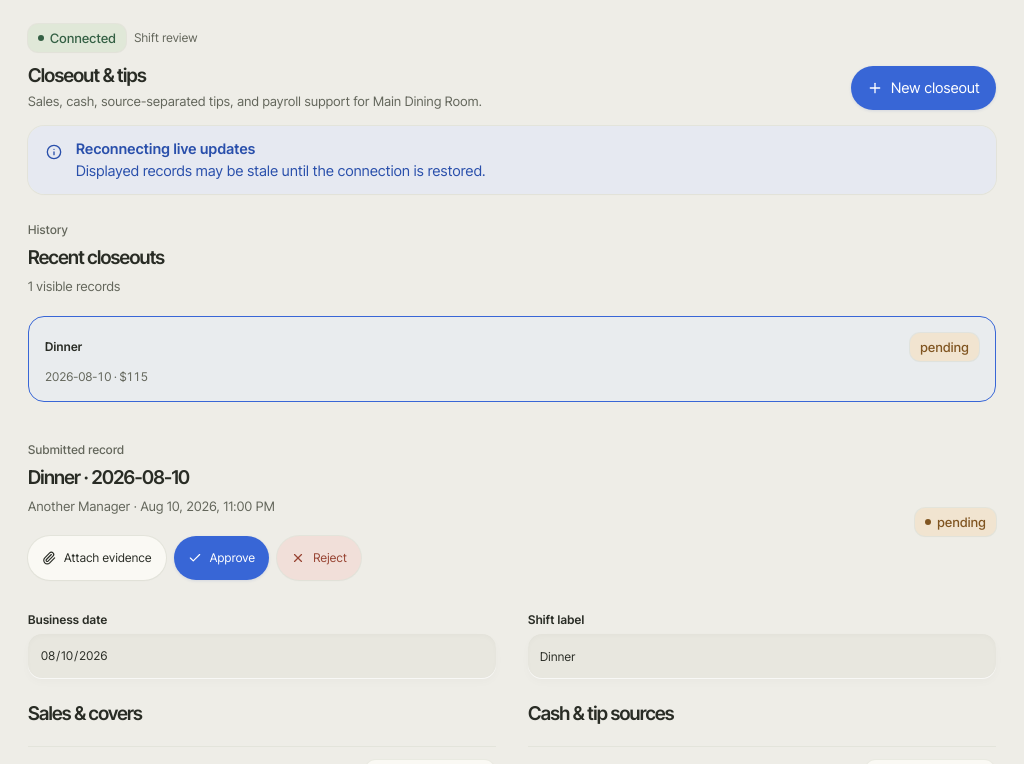
Test case: connected closeout object actions › exposes named evidence and decisions, then confirms an irreversible approval
Expected: the button "Attach evidence" is shown, [28, 536, 166, 580]
Expected: the button "Reject" is shown, [277, 536, 361, 580]
What coordinates should you click on to do the following:
click the button "Approve"
I would click on:
 (221, 558)
Its box is [174, 536, 269, 580].
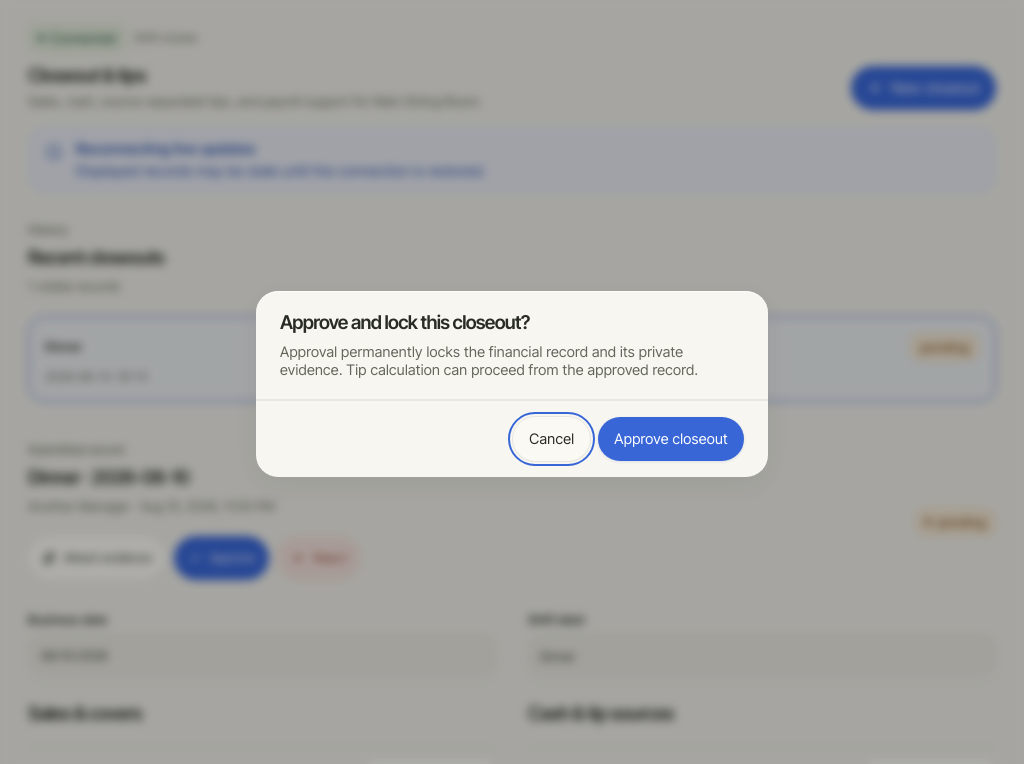
What coordinates should you click on to do the following:
click the button "Approve closeout"
I would click on:
 (671, 439)
Its box is [598, 417, 744, 461].
(page scrolled)
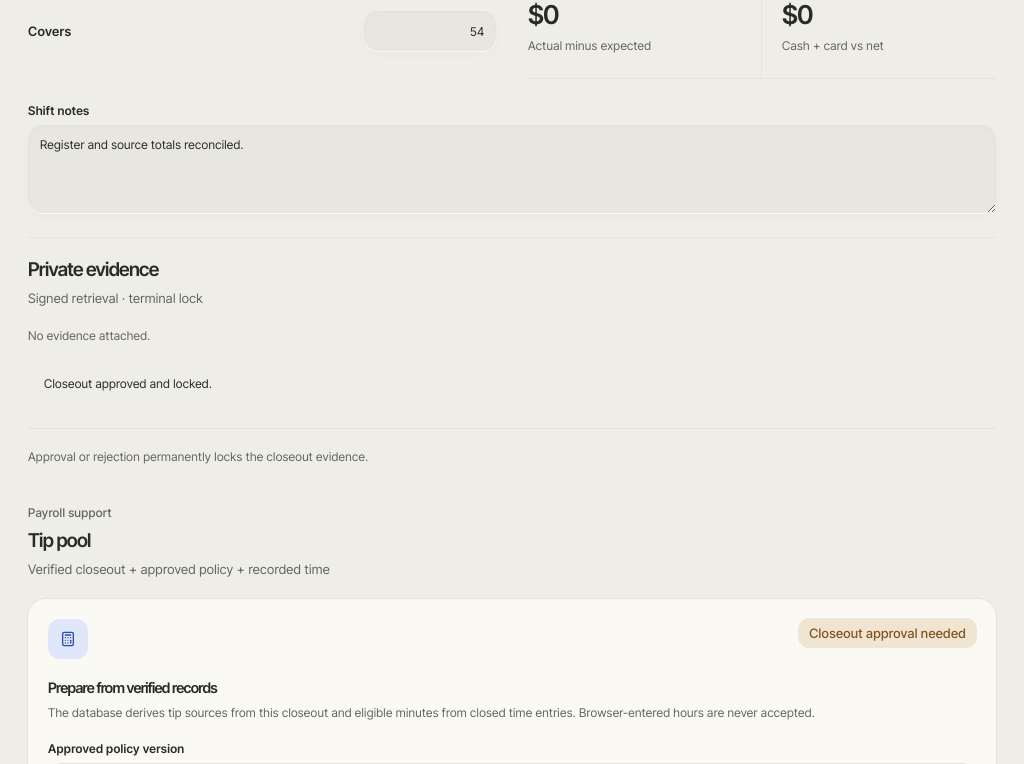
Now the text "Closeout approved and locked." is shown, box [28, 364, 996, 404]
